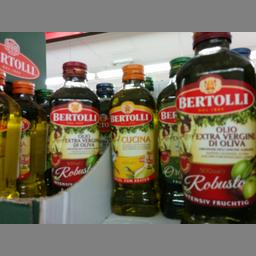oil: (175, 31, 255, 222), (107, 62, 160, 212), (47, 60, 97, 194)
